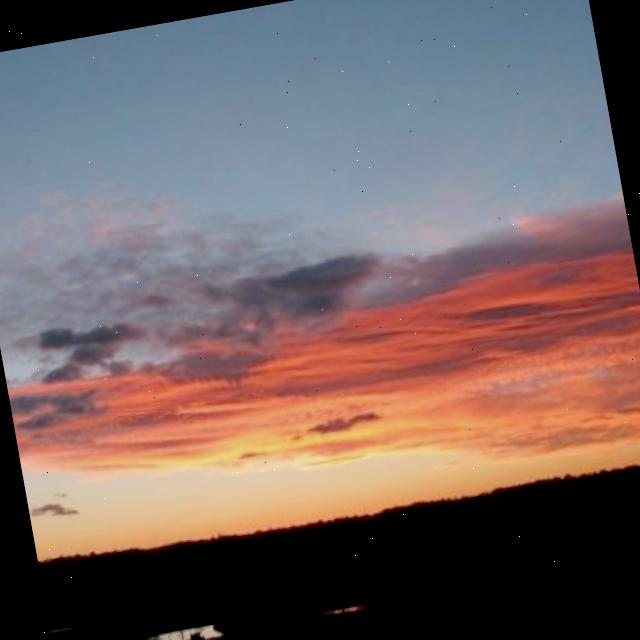As: (1, 61, 640, 540)
